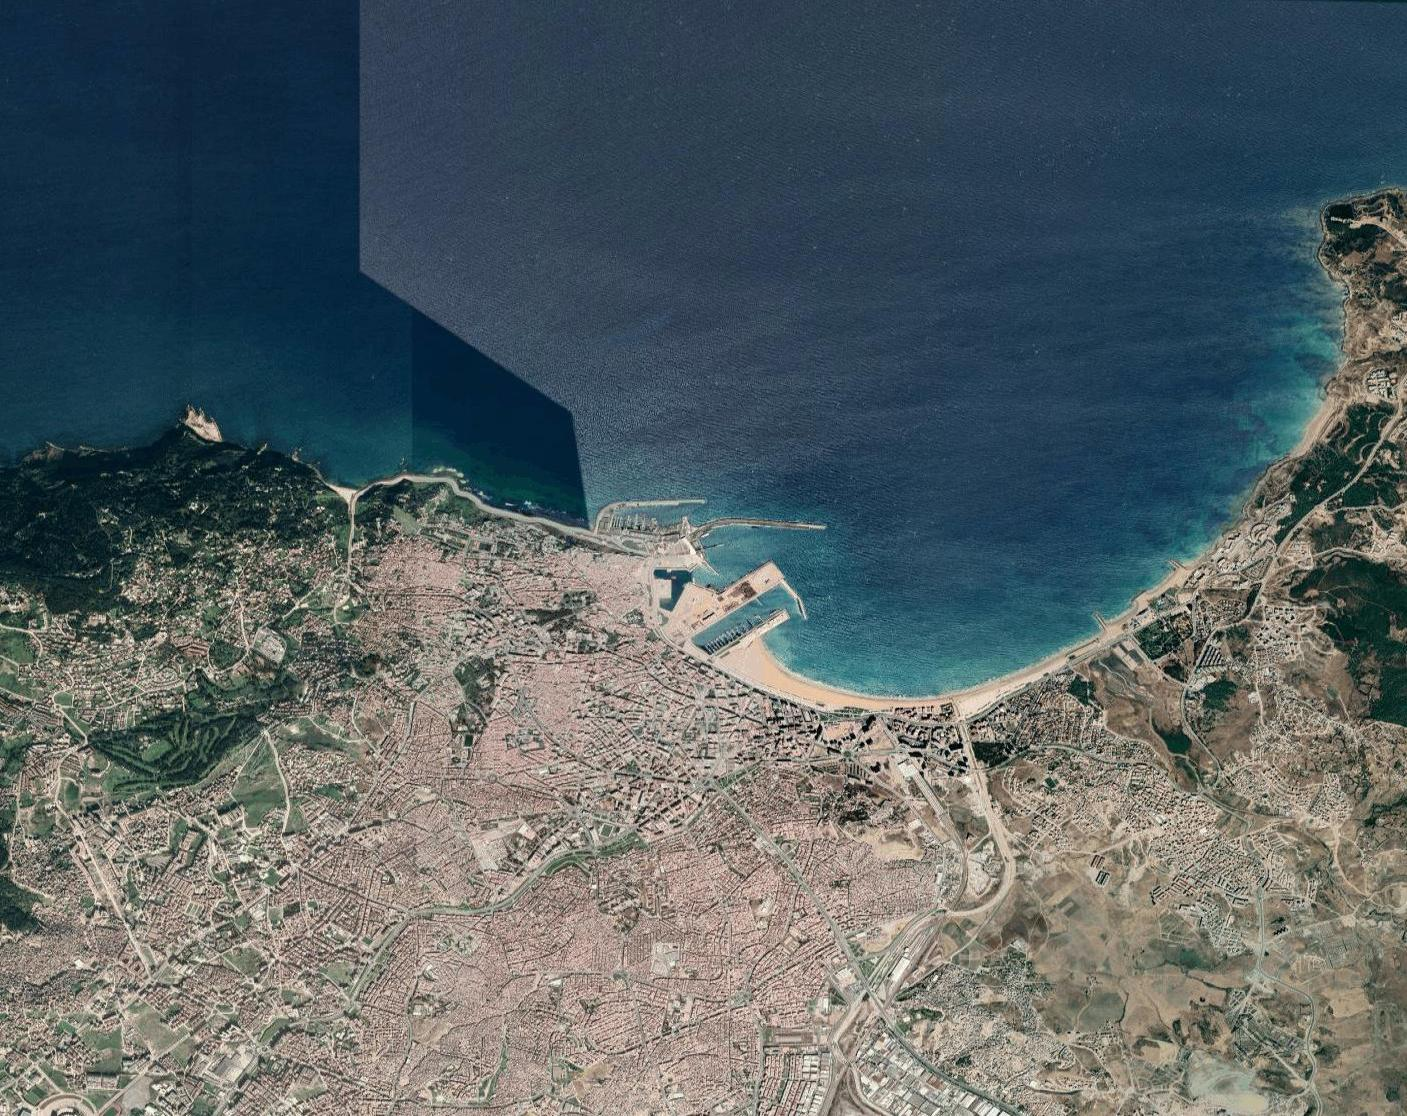harbor: (584, 488, 825, 559), (683, 561, 802, 665)
